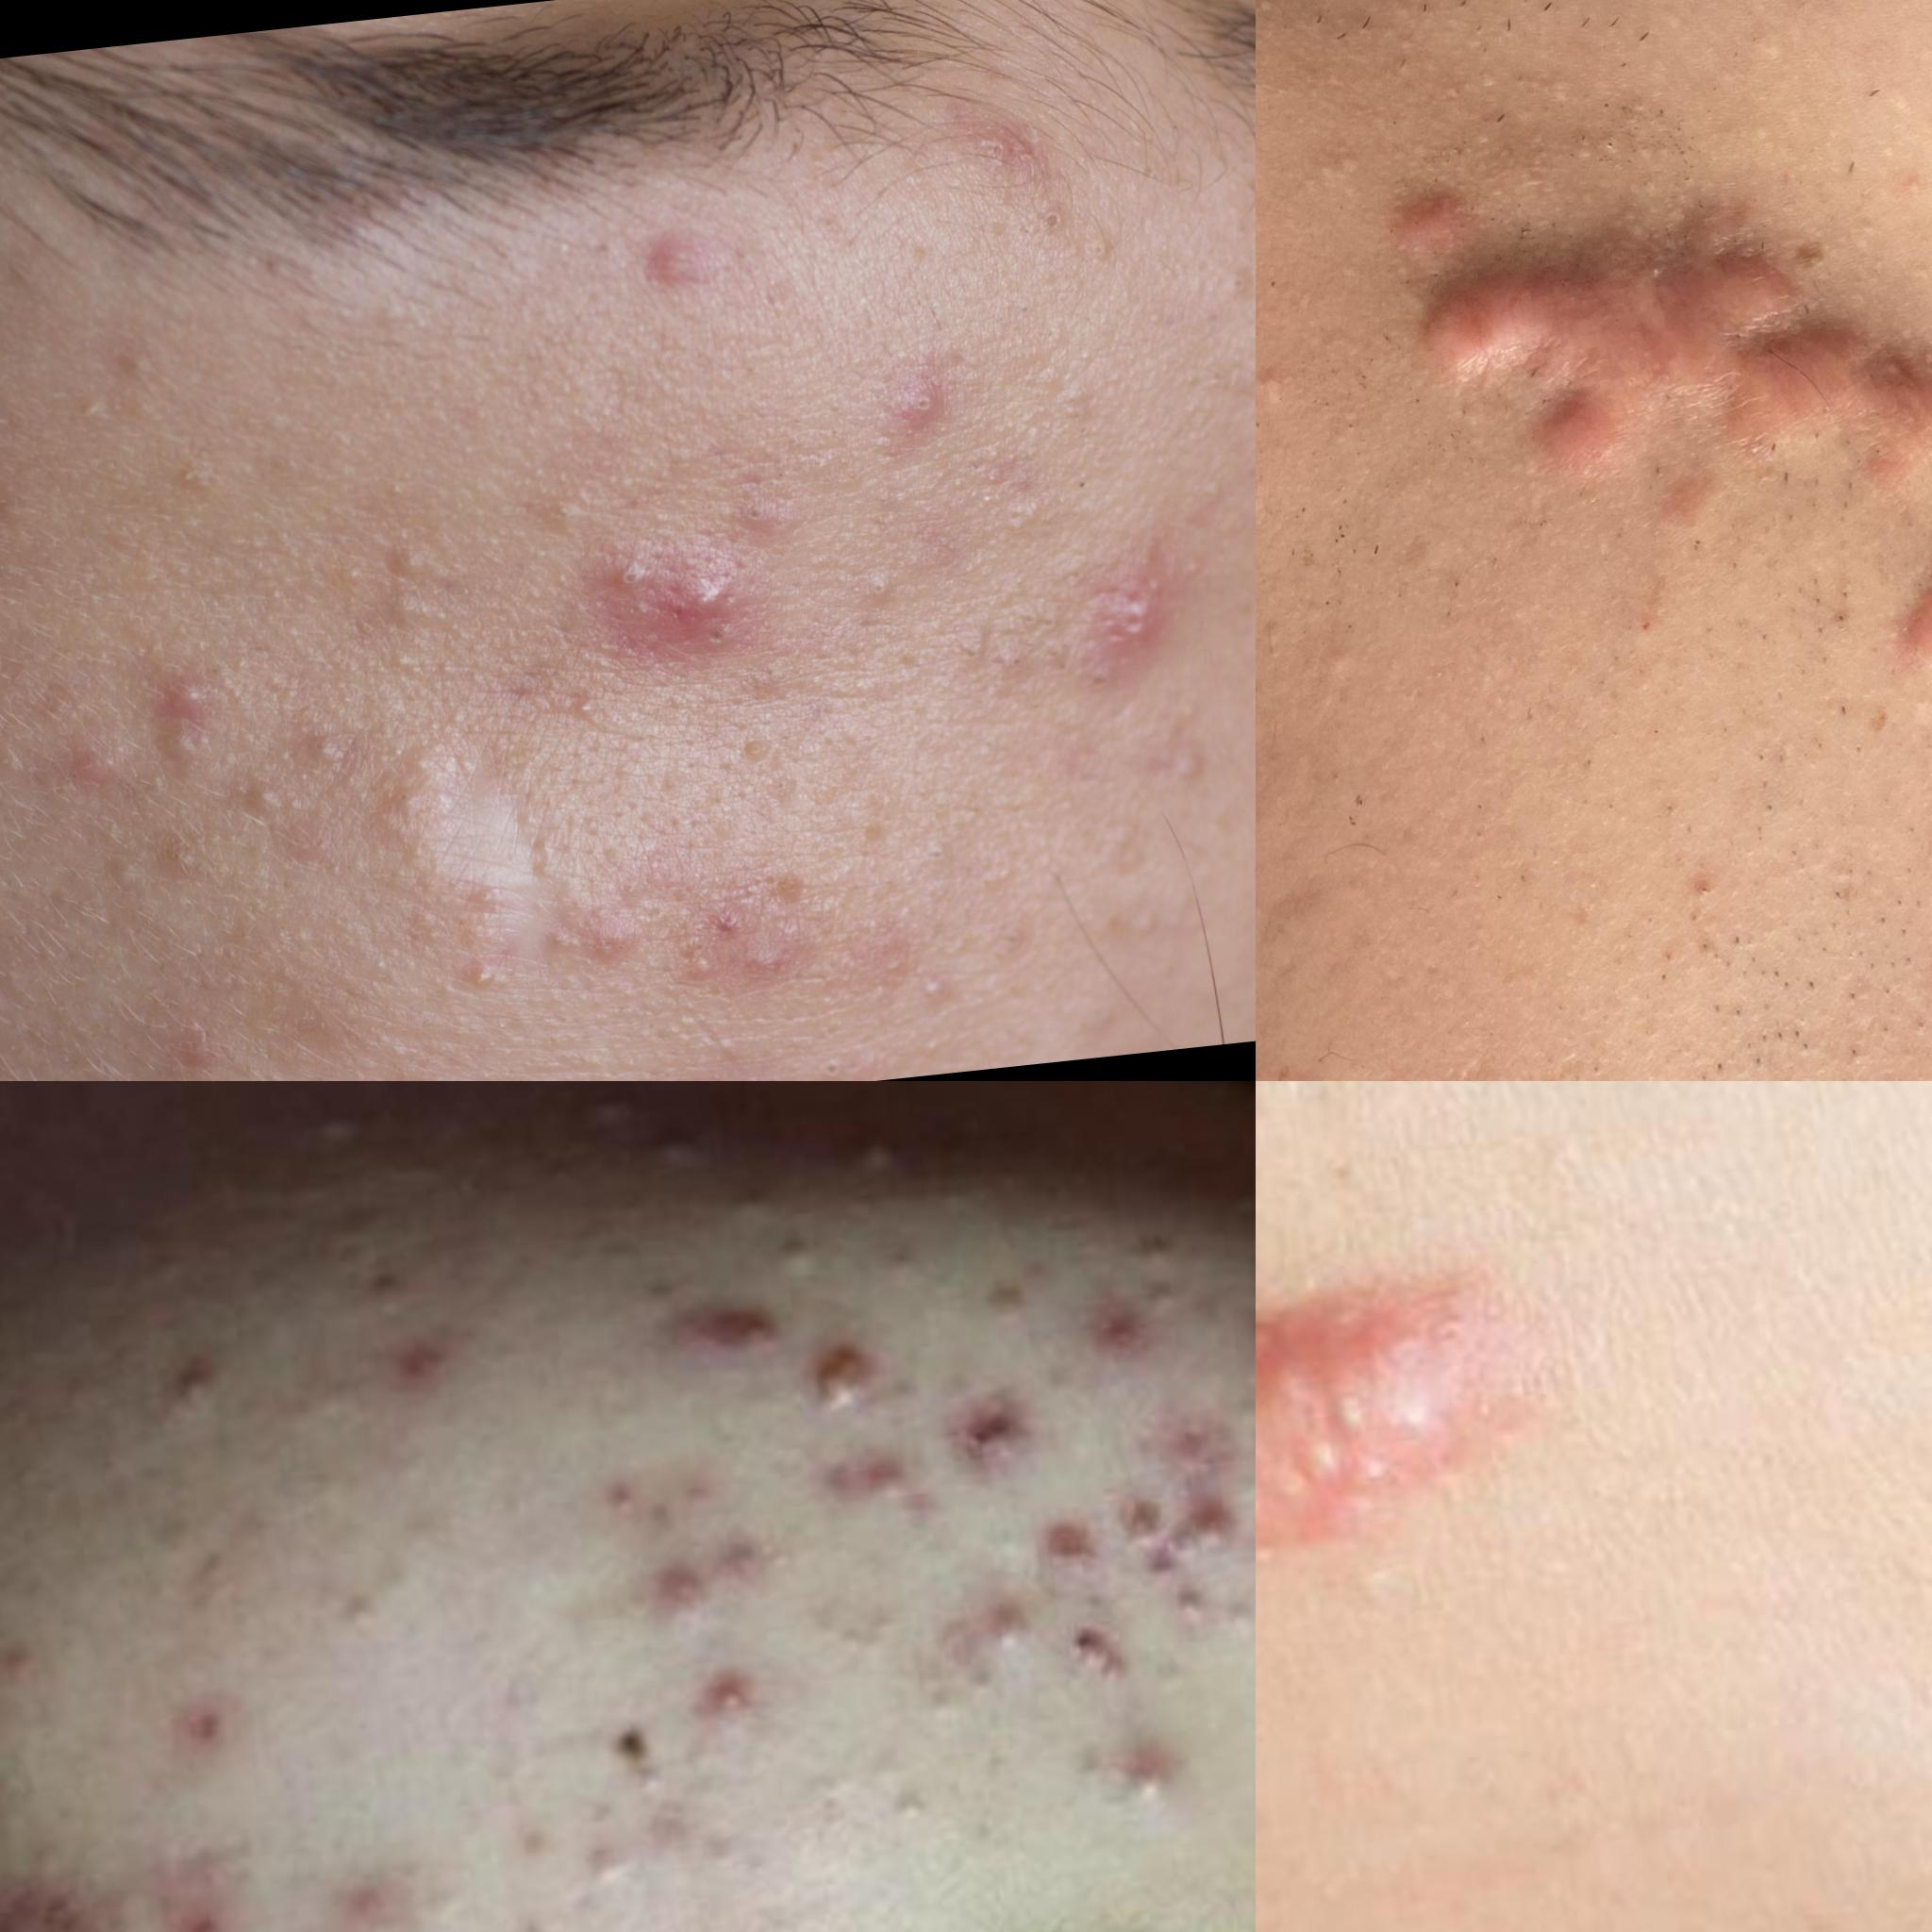acne_scars: (2, 1867, 110, 1932)
blackhead: (1070, 561, 1184, 663), (938, 605, 1044, 701), (349, 517, 435, 589), (702, 483, 798, 545), (602, 550, 671, 609), (699, 610, 750, 674)
keloid: (1361, 129, 1932, 543), (1256, 1272, 1559, 1603), (1872, 513, 1932, 676)
papular: (667, 1284, 817, 1396), (587, 1543, 743, 1628), (941, 1380, 1049, 1502), (662, 1663, 800, 1744), (382, 1329, 492, 1415), (1154, 1460, 1256, 1550), (1081, 1286, 1173, 1376), (973, 1263, 1074, 1345), (837, 1449, 936, 1530), (1042, 1477, 1095, 1583), (124, 1888, 251, 1932)
purulent: (1095, 1725, 1228, 1835), (782, 1332, 899, 1428)
whitehead: (904, 1559, 1047, 1725), (281, 1560, 432, 1652), (600, 184, 711, 306), (143, 1313, 251, 1438), (317, 1217, 437, 1327), (853, 1727, 952, 1859), (446, 927, 564, 1035), (133, 662, 251, 766), (862, 939, 982, 1031), (566, 1829, 660, 1907), (1168, 1573, 1256, 1654), (1129, 1214, 1196, 1315), (207, 780, 322, 839), (649, 1116, 725, 1200), (713, 1171, 786, 1247), (387, 1872, 476, 1932), (552, 1083, 630, 1143), (736, 1247, 833, 1286), (844, 1123, 906, 1180)
